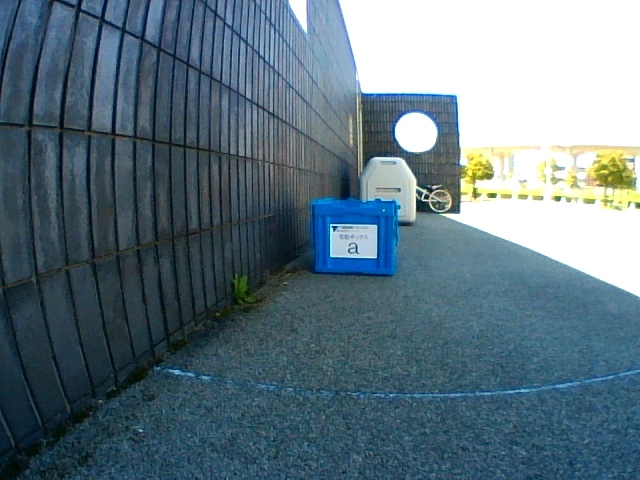blue_box: (310, 198, 399, 275)
tag_a: (331, 225, 377, 258)
